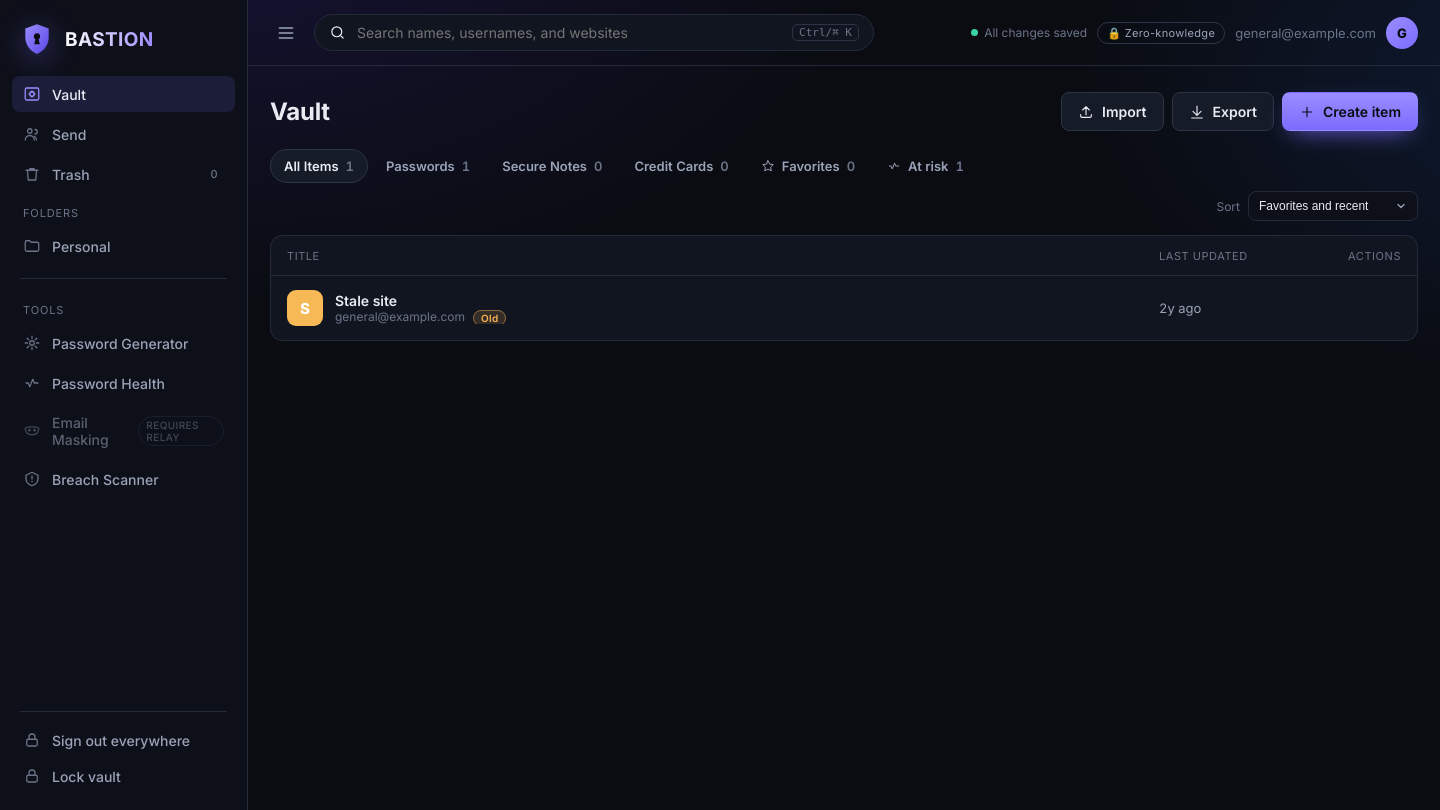
Test: Vault dashboard accessibility › dates old passwords from one clock and states the threshold
Click the button "Password Health" at (124, 383), box x1=12 y1=365 x2=235 y2=401
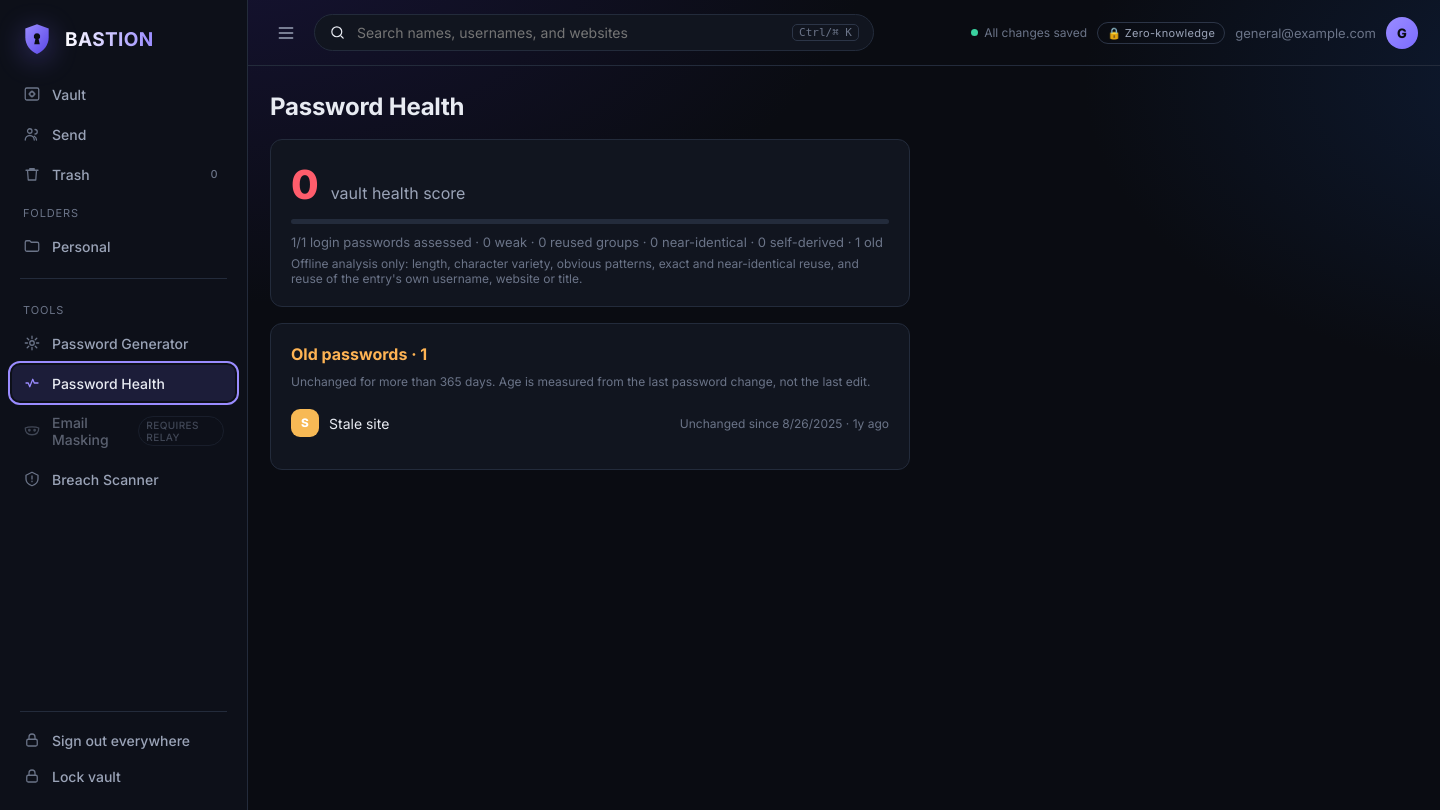
expect the text "Old passwords · 1" is shown: met, box x1=291 y1=344 x2=427 y2=364
expect the text "Unchanged for more than 365 days" is shown: met, box x1=291 y1=374 x2=889 y2=389
